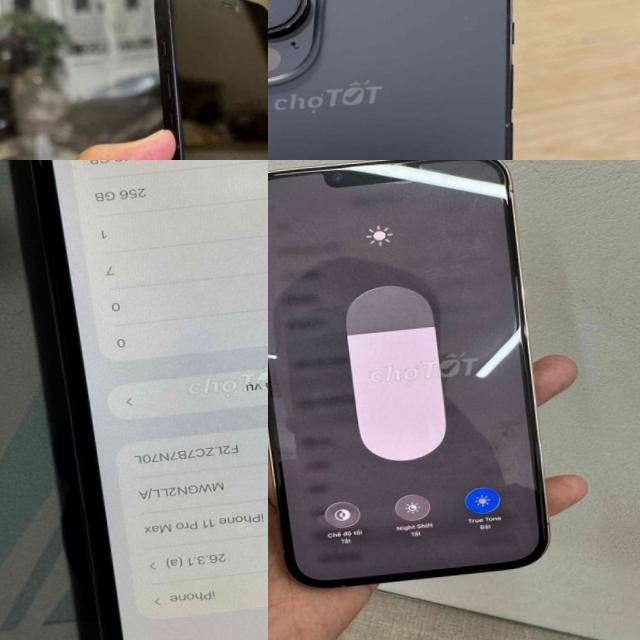gen_11: (30, 160, 268, 640)
gen_12_13: (268, 160, 565, 598), (141, 0, 268, 160)
gen_14: (268, 0, 545, 160)
